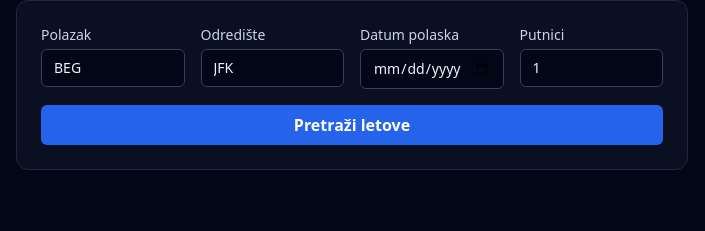
SearchForm › shows a 'no offers' message when the search returns an empty list
The image size is (705, 231).
Click the button "Pretraži letove" at (352, 125), box top-left (41, 105), bottom-right (663, 145)
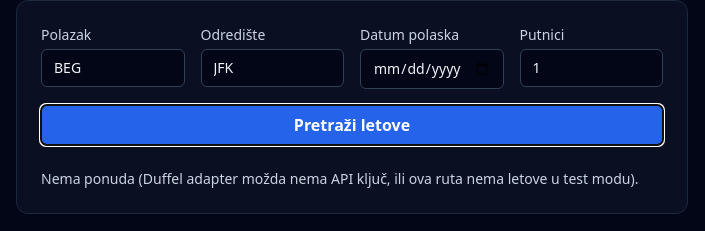
Expected: the text "Nema ponuda" is shown, top-left (41, 169), bottom-right (638, 188)
